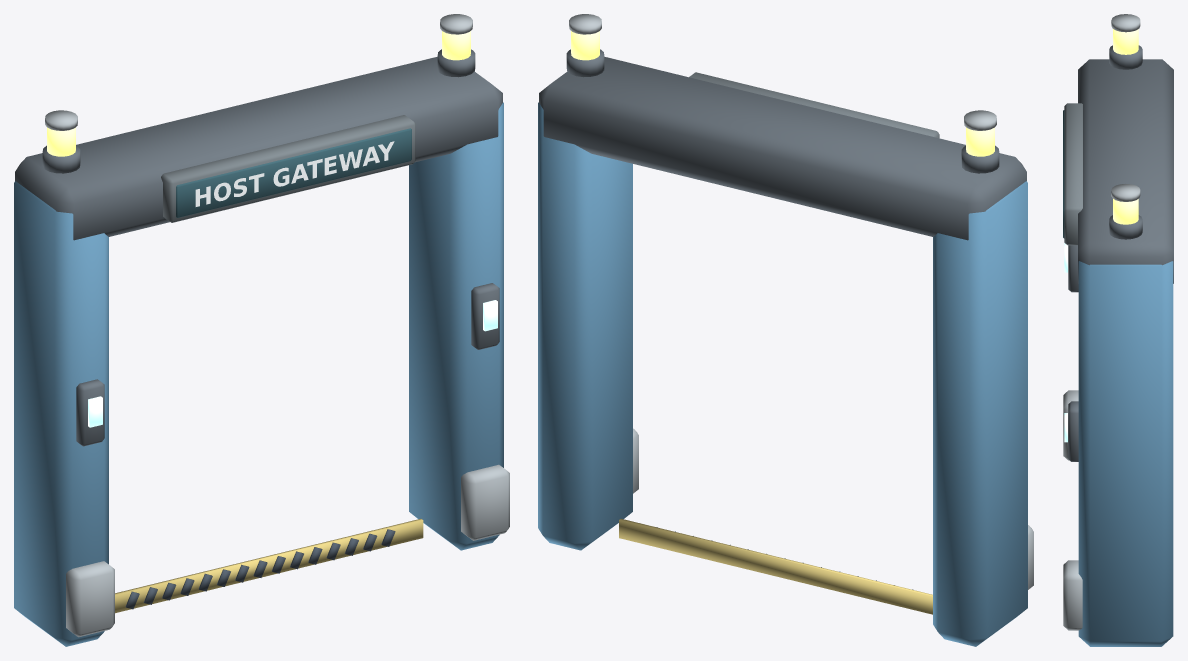
The model's file is host_gateway_standard.glb.
The picture shows the model from 3 angles, left to right: view 1: azimuth 30°, elevation 25°; view 2: azimuth 150°, elevation 25°; view 3: azimuth 270°, elevation 25°; orthographic projection. The views are drawn at different scales.
Visible parts, largest first — view 1: Pillar_blue_legacy_0, Header_dark_legacy_4, Footing_steel_legacy_11, SignPlate_glass, ScreenMount_frame, Detail_yellow_legacy_9, AccessPanel_dark_legacy_12, Detail_black_legacy_10, TypeLabel_white, StatusLight_warn_legacy_2, Beacon_dark_legacy_1, Beacon_steel_legacy_3 (+1 smaller); view 2: Pillar_blue_legacy_0, Header_dark_legacy_4, Detail_yellow_legacy_9, ScreenMount_frame, StatusLight_warn_legacy_2, Beacon_dark_legacy_1, Beacon_steel_legacy_3, Footing_steel_legacy_11; view 3: Pillar_blue_legacy_0, Header_dark_legacy_4, ScreenMount_frame, Footing_steel_legacy_11, StatusLight_warn_legacy_2, Beacon_dark_legacy_1, AccessPanel_dark_legacy_12, Beacon_steel_legacy_3, SignPlate_glass, StatusLight_glow_legacy_13.
Boxes of the visible parts, x1=… form: Pillar_blue_legacy_0: x1=14, y1=102, x2=503, y2=646; Header_dark_legacy_4: x1=15, y1=56, x2=502, y2=240; Footing_steel_legacy_11: x1=66, y1=464, x2=509, y2=637; SignPlate_glass: x1=176, y1=128, x2=411, y2=217; ScreenMount_frame: x1=161, y1=115, x2=415, y2=222; Detail_yellow_legacy_9: x1=115, y1=518, x2=423, y2=613; AccessPanel_dark_legacy_12: x1=76, y1=283, x2=499, y2=446; Detail_black_legacy_10: x1=125, y1=529, x2=395, y2=609; TypeLabel_white: x1=195, y1=141, x2=394, y2=206; StatusLight_warn_legacy_2: x1=47, y1=31, x2=470, y2=156; Beacon_dark_legacy_1: x1=42, y1=49, x2=475, y2=173; Beacon_steel_legacy_3: x1=45, y1=14, x2=472, y2=130; Pillar_blue_legacy_0: x1=538, y1=102, x2=1027, y2=646; Header_dark_legacy_4: x1=539, y1=56, x2=1026, y2=240; Detail_yellow_legacy_9: x1=619, y1=518, x2=932, y2=614; ScreenMount_frame: x1=689, y1=72, x2=939, y2=138; StatusLight_warn_legacy_2: x1=571, y1=31, x2=994, y2=156; Beacon_dark_legacy_1: x1=566, y1=49, x2=999, y2=173; Beacon_steel_legacy_3: x1=569, y1=14, x2=996, y2=130; Footing_steel_legacy_11: x1=633, y1=428, x2=1033, y2=589; Pillar_blue_legacy_0: x1=1078, y1=261, x2=1173, y2=646; Header_dark_legacy_4: x1=1078, y1=59, x2=1173, y2=283; ScreenMount_frame: x1=1064, y1=103, x2=1082, y2=245; Footing_steel_legacy_11: x1=1063, y1=390, x2=1082, y2=630; StatusLight_warn_legacy_2: x1=1113, y1=29, x2=1138, y2=224; Beacon_dark_legacy_1: x1=1109, y1=45, x2=1142, y2=239; AccessPanel_dark_legacy_12: x1=1068, y1=245, x2=1078, y2=461; Beacon_steel_legacy_3: x1=1111, y1=14, x2=1140, y2=201; SignPlate_glass: x1=1063, y1=110, x2=1064, y2=238; StatusLight_glow_legacy_13: x1=1064, y1=243, x2=1067, y2=442.
Size of the model in its own units: 3.14 by 3.41 by 0.769.
